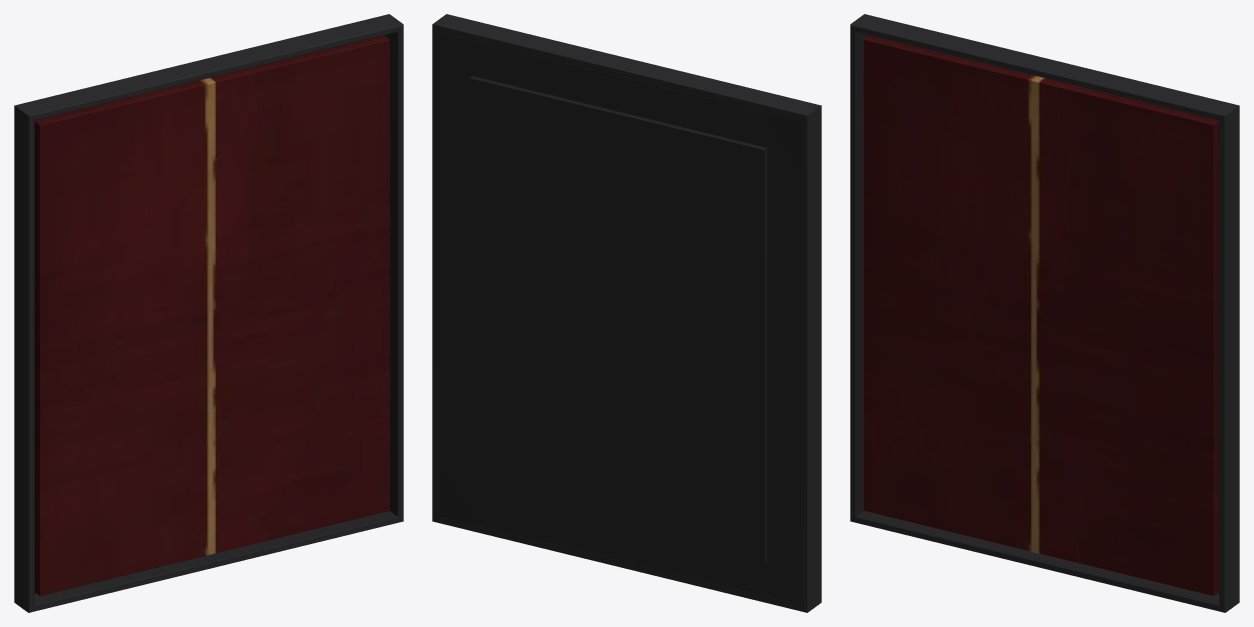
File: art_oxblood_zip.gltf
3 renders of one model, left to right at view 1: azimuth 30°, elevation 25°; view 2: azimuth 150°, elevation 25°; view 3: azimuth 330°, elevation 25°, orthographic.
Parts seen in each view (by area): view 1: Art_OxbloodZip_Art, Art_OxbloodZip_Frame; view 2: Art_OxbloodZip_Spacer, Art_OxbloodZip_Tray, Art_OxbloodZip_Frame; view 3: Art_OxbloodZip_Art, Art_OxbloodZip_Frame.
Boxes of the visible parts, x1,y1,x2,y2 form: Art_OxbloodZip_Art: (34, 35, 390, 595); Art_OxbloodZip_Frame: (14, 14, 403, 612); Art_OxbloodZip_Spacer: (469, 76, 767, 563); Art_OxbloodZip_Tray: (438, 32, 801, 604); Art_OxbloodZip_Frame: (432, 14, 821, 612); Art_OxbloodZip_Art: (863, 35, 1219, 595); Art_OxbloodZip_Frame: (850, 14, 1239, 612).
Size of the model in its own units: 0.75 by 0.95 by 0.06.
2 materials, 1 textured.
